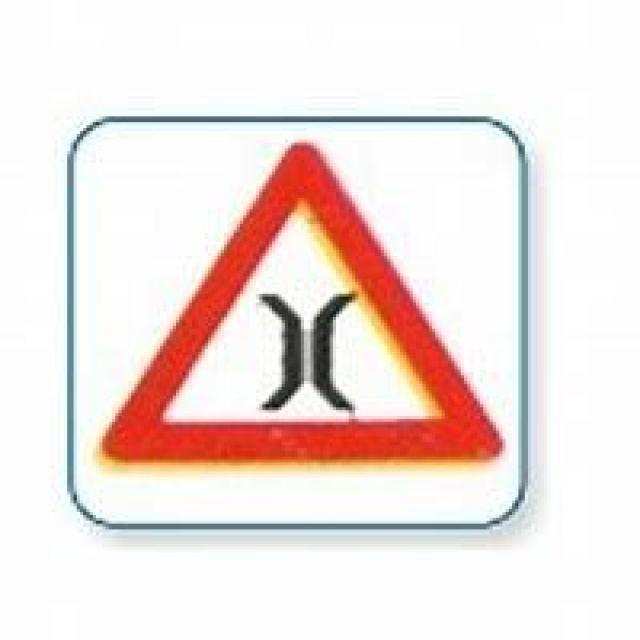narrow bridge ahead: (96, 134, 506, 474)
